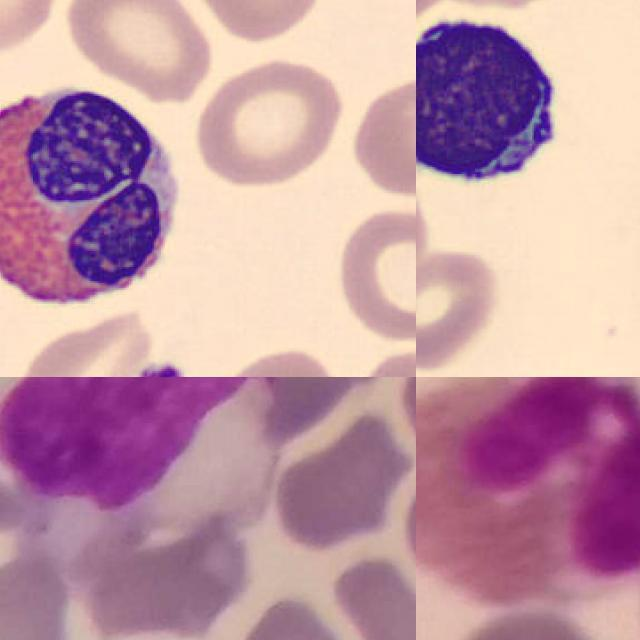Eosinophil: (416, 377, 640, 608), (0, 74, 189, 323)
Lymphocyte: (416, 0, 574, 203)
Monocyte: (0, 377, 284, 540)
Platelets: (136, 356, 191, 377)
RBC: (190, 54, 350, 190), (61, 0, 216, 101), (332, 202, 415, 348), (416, 246, 503, 371), (11, 307, 157, 377), (348, 70, 414, 206), (191, 0, 329, 46), (198, 339, 345, 377), (347, 339, 415, 377)
